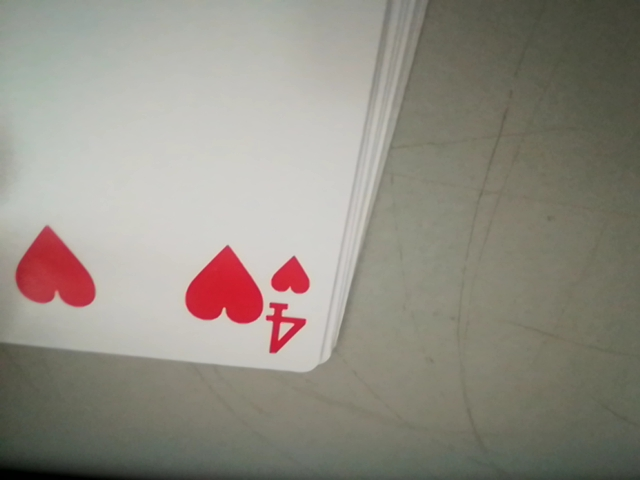hx 4: (266, 255, 311, 354)
